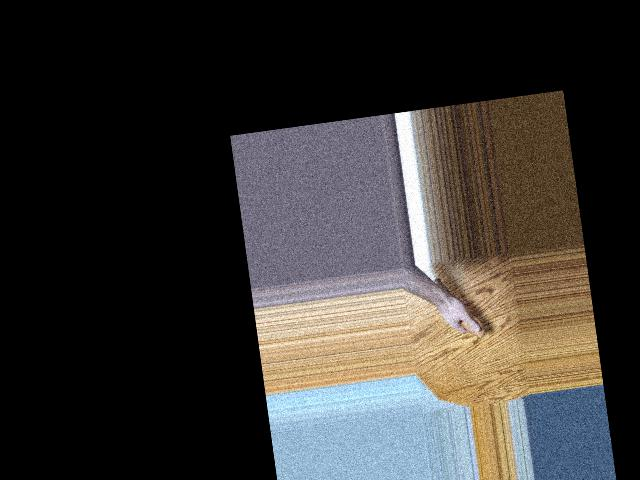sweet_potato: (430, 270, 485, 344)
